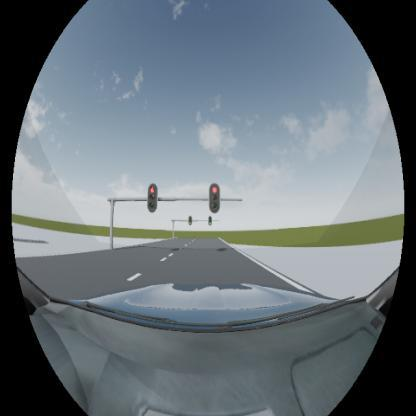Green Light: (208, 216, 212, 226), (188, 216, 192, 225)
Red Light: (210, 184, 221, 212), (148, 183, 157, 213)
